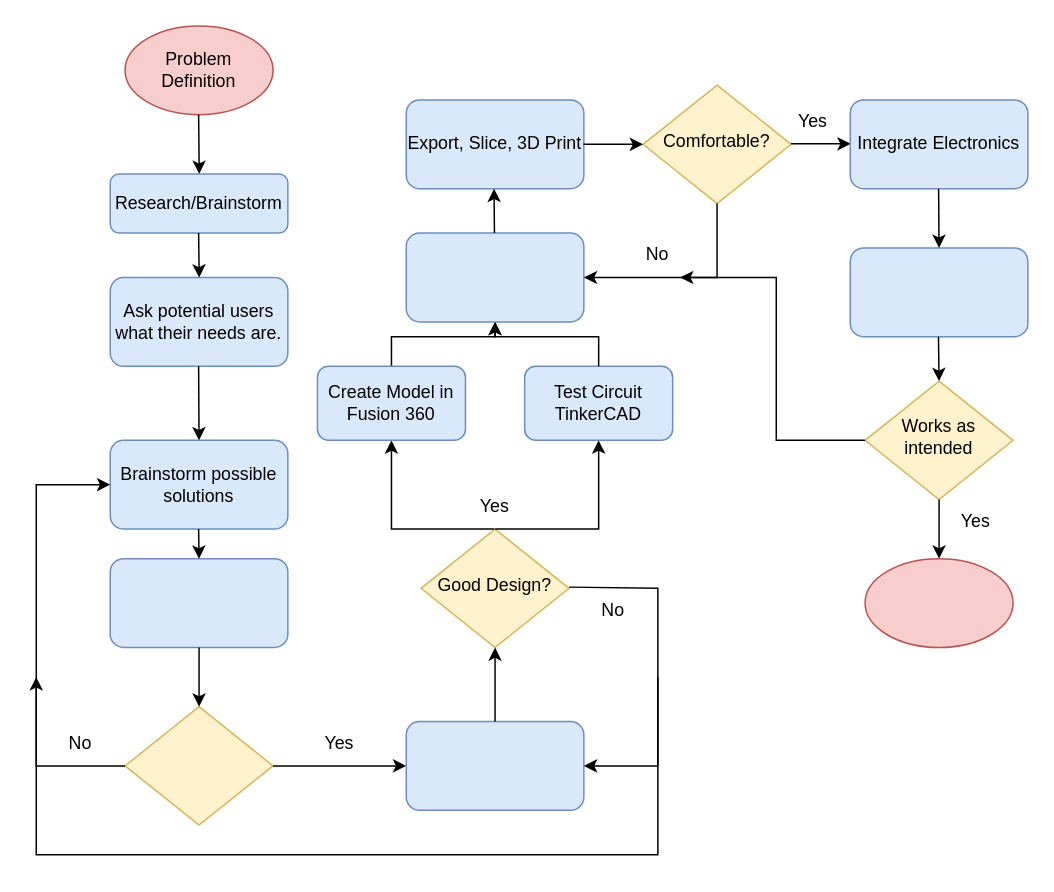
Image size: 1054x892. Some labels were removed from this diagram. Each missing label, with the centre of its shape:
"Create Prototype" belongs at (494,765).
"Determine which are feasible" belongs at (198,602).
"Iterate" belongs at (494,277).
"Polish" belongs at (938,602).
"Possible?" belongs at (198,765).
"Test Functionality with demo game" belongs at (938,291).
